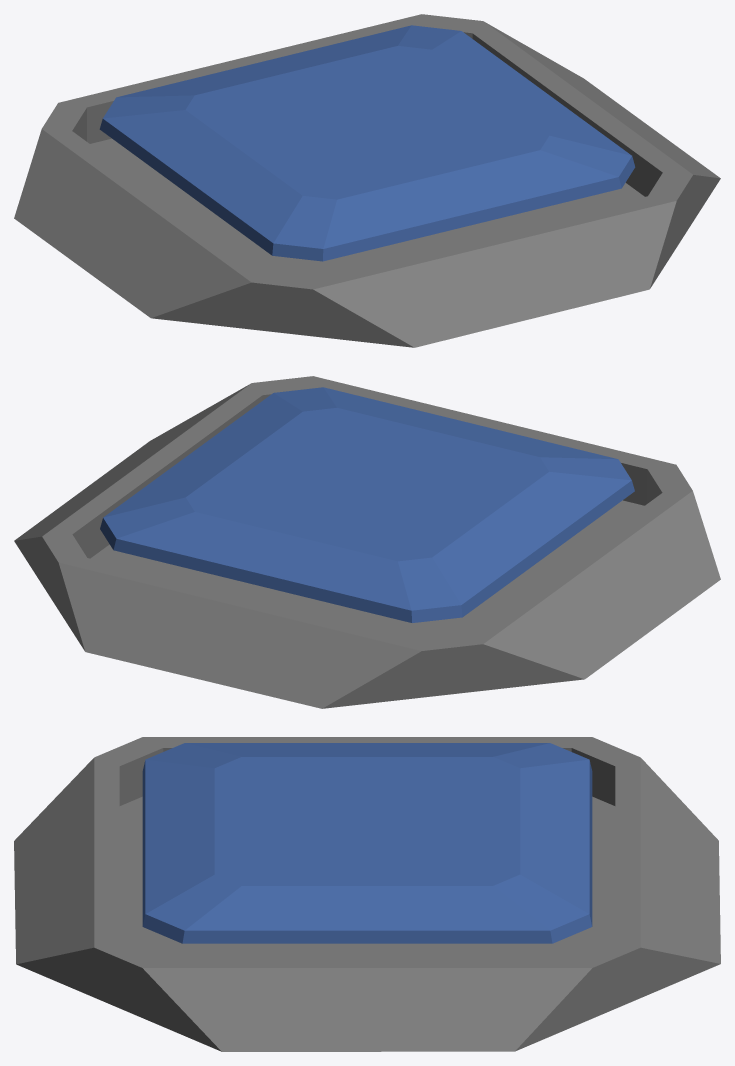
The model's file is SqueareButton1.fbx.
3 renders of one model, top to bottom at view 1: azimuth 30°, elevation 25°; view 2: azimuth 150°, elevation 25°; view 3: azimuth 270°, elevation 25°, orthographic. The views are drawn at different scales.
Parts seen in each view (by area): view 1: Base, Button.002; view 2: Base, Button.002; view 3: Base, Button.002.
Boxes of the visible parts, x1,y1,x2,y2 form: Base: (14,14,720,347); Button.002: (99,25,635,261); Base: (14,376,720,708); Button.002: (100,387,634,622); Base: (14,737,720,1051); Button.002: (142,743,592,943).
Size of the model in its own units: 142 by 17.98 by 142.
